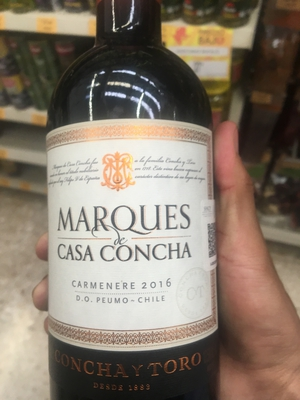marques de casa concha carmenere: (34, 5, 226, 397)
